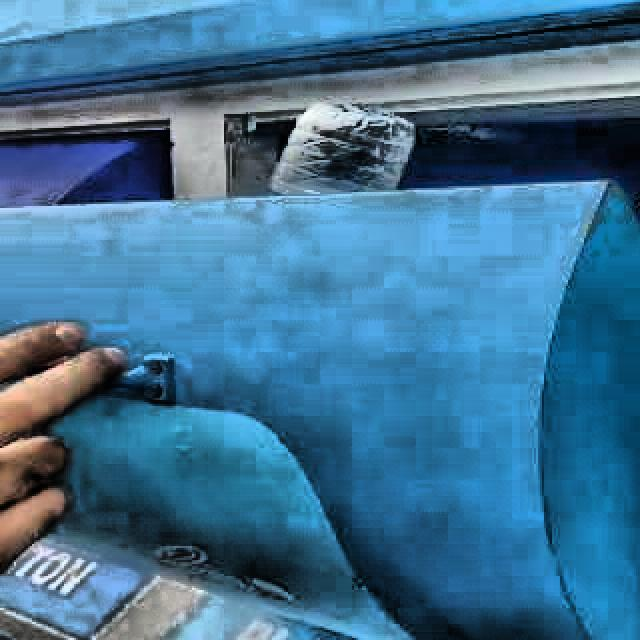plastic: (269, 105, 416, 195)
